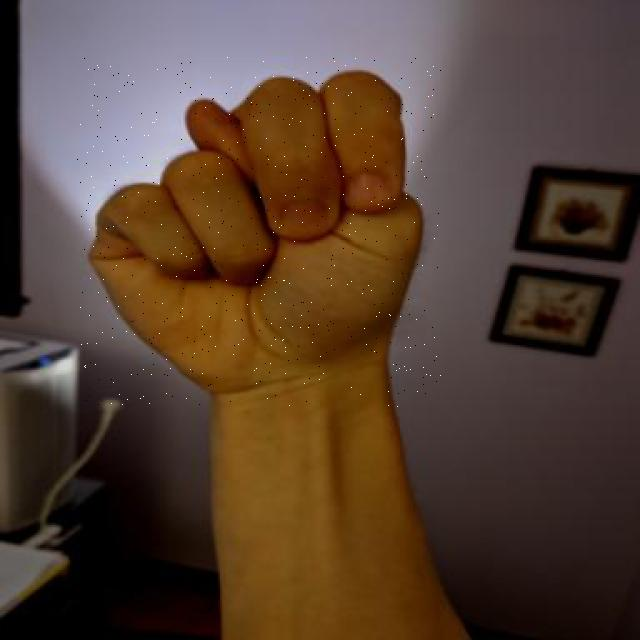N: (77, 56, 441, 407)
